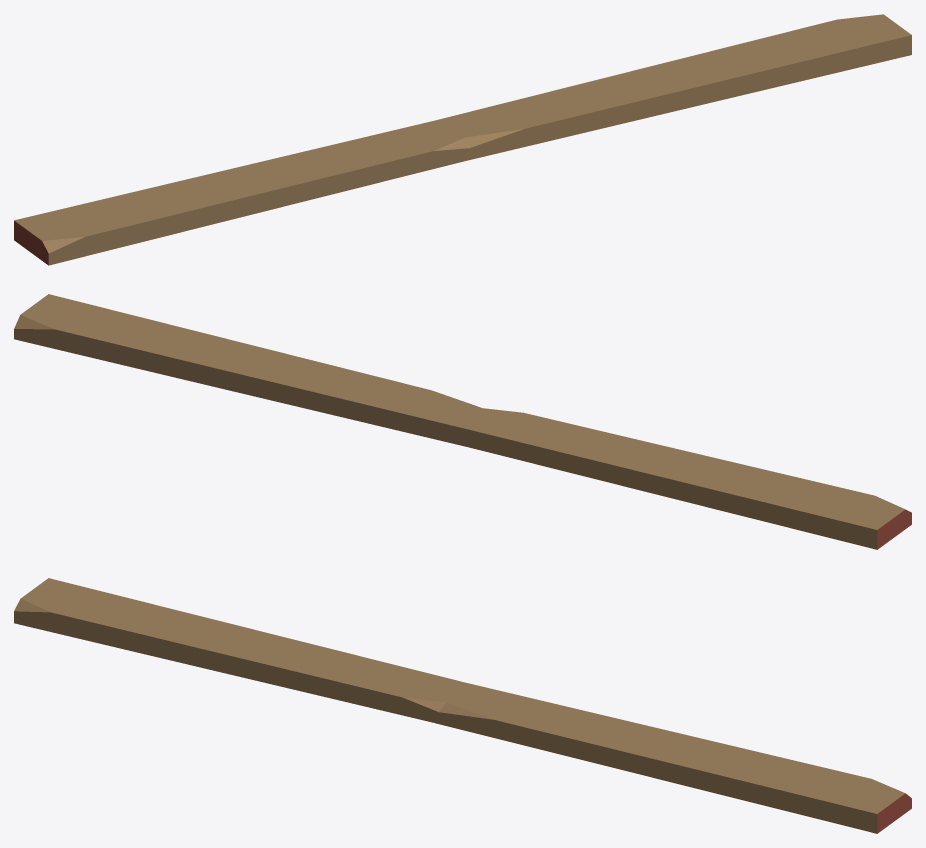
File: SM_Prop_Plank_01.glb
3 renders of one model, top to bottom at view 1: azimuth 30°, elevation 25°; view 2: azimuth 150°, elevation 25°; view 3: azimuth 330°, elevation 25°, orthographic.
Parts seen in each view (by area): view 1: SM_Prop_Plank_01; view 2: SM_Prop_Plank_01; view 3: SM_Prop_Plank_01.
Boxes of the visible parts, box(x1,y1,x2,y2) form: SM_Prop_Plank_01: box(14, 14, 911, 265); SM_Prop_Plank_01: box(14, 294, 911, 549); SM_Prop_Plank_01: box(14, 578, 911, 833).
Bounding box in the file's own units: 4.58 × 0.101 × 0.3188.
1 material, 1 textured.
